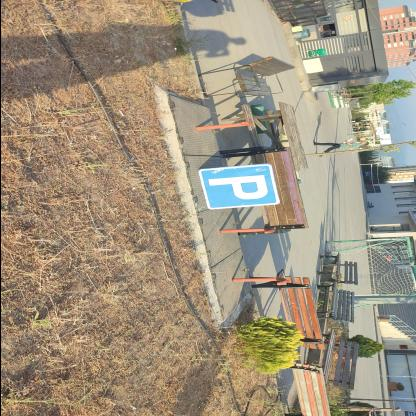Parking-Sign: (198, 164, 280, 211)
